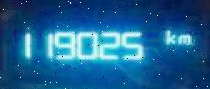0: (75, 29, 96, 60)
1: (20, 30, 35, 60), (41, 30, 53, 59)
2: (96, 30, 118, 60)
5: (120, 30, 146, 61)
9: (55, 30, 75, 60)
X: (176, 32, 191, 45), (163, 27, 174, 43)
